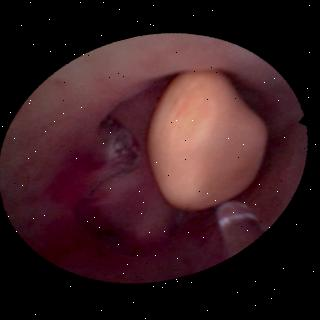stone: (148, 71, 266, 209)
tissue: (3, 38, 299, 279)
